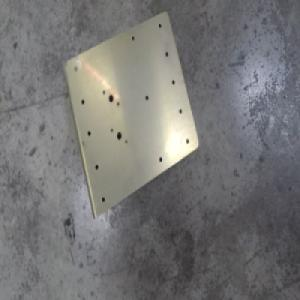MetalSheet: (61, 8, 200, 222)
